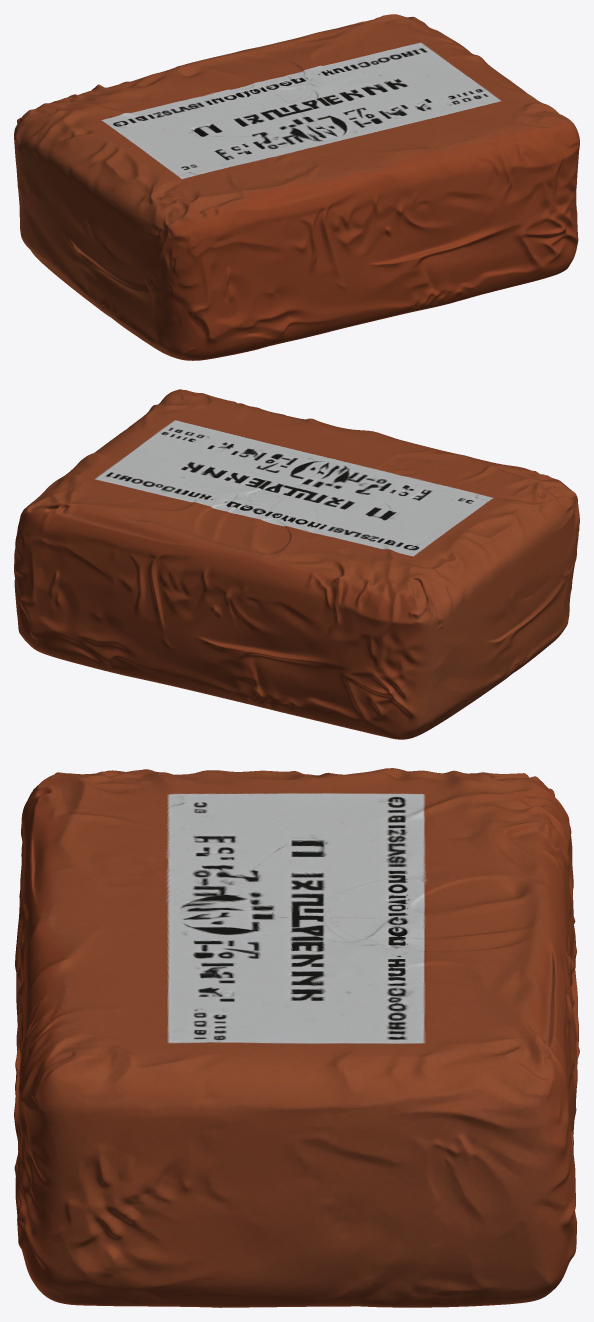
The model's file is Inert Semtex H Training Block_DKB.glb.
The picture shows the model from 3 angles, top to bottom: view 1: azimuth 30°, elevation 25°; view 2: azimuth 150°, elevation 25°; view 3: azimuth 270°, elevation 25°; orthographic projection. The views are drawn at different scales.
Size of the model in its own units: 1.9 by 0.6641 by 1.38.
1 material, 1 textured.
